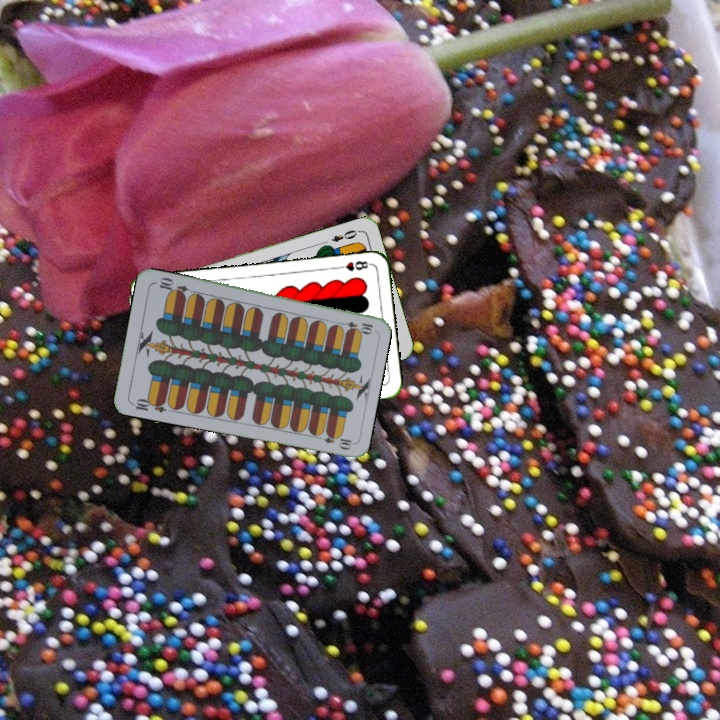E10: (128, 394, 168, 415), (335, 317, 376, 334)
EO: (327, 226, 363, 245)
H8: (333, 257, 373, 273)
